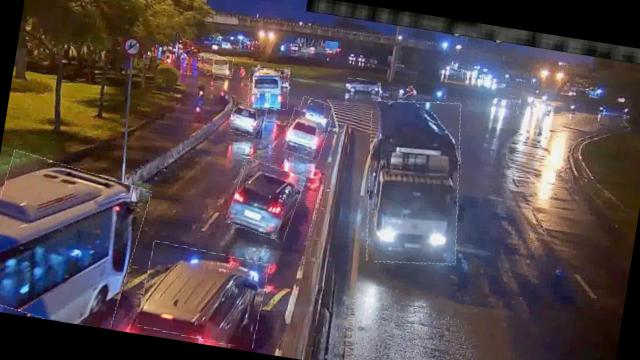Bus: (0, 152, 149, 331), (244, 64, 292, 111), (197, 53, 234, 78)
Car: (138, 240, 269, 348), (227, 158, 304, 240), (282, 109, 330, 160), (228, 102, 267, 138), (296, 96, 333, 127), (345, 77, 381, 98)
Truck: (353, 92, 475, 270)
